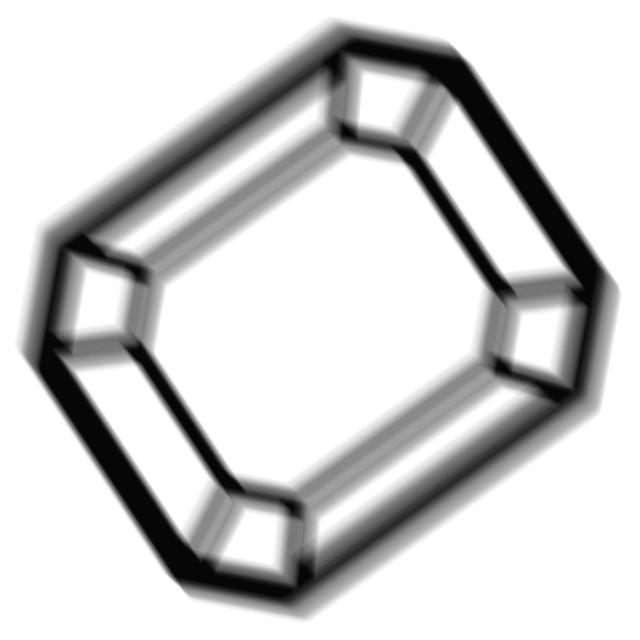emerald: (10, 14, 626, 634)
